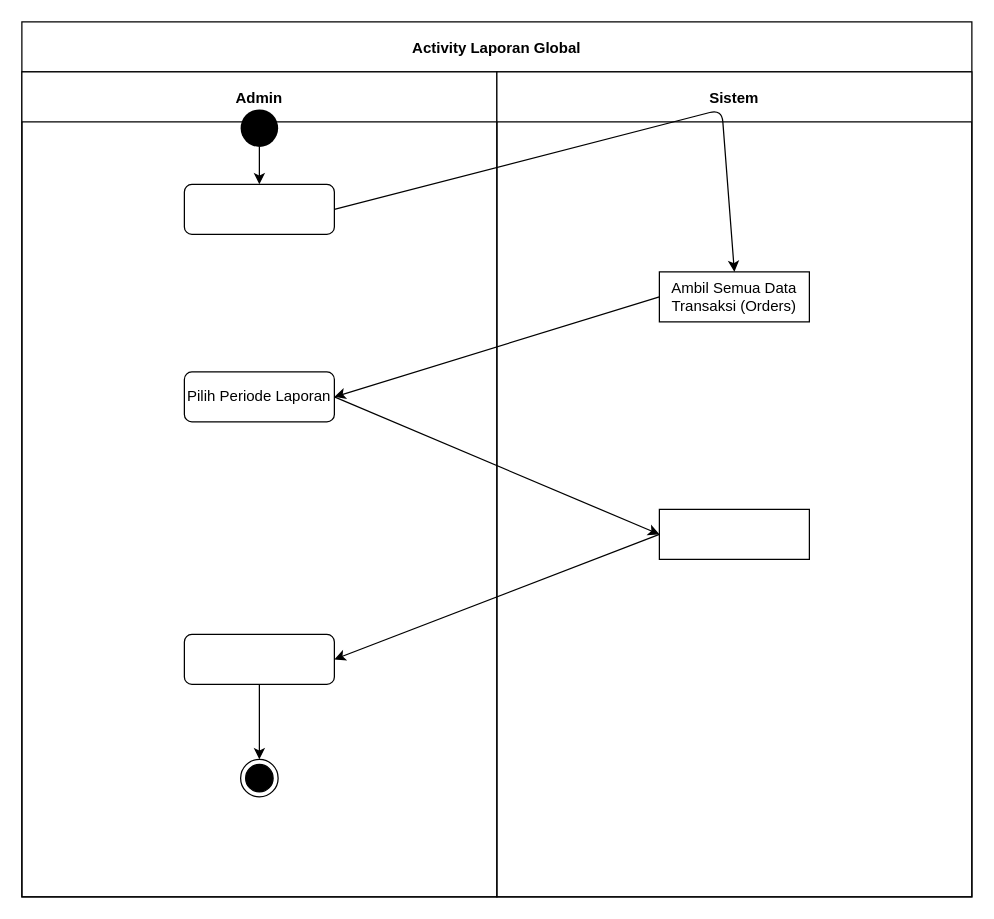
Some shapes in this 994 by 919 pixel diagram are drawn without their labels. The shapes that lost their labels are listed below. From the top down, each one's centre as x and y in pixels, then its label:
At (258,208): "Akses Menu Monitoring".
At (733,533): "Agregasi Data & Kalkulasi Profit".
At (258,658): "Review Grafik Penjualan Global".
